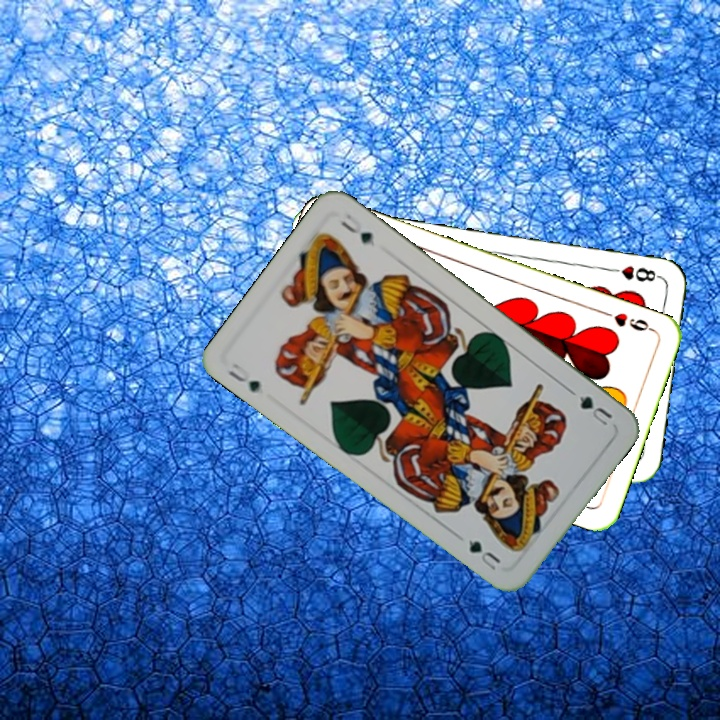GU: (575, 391, 615, 429), (223, 358, 263, 396)
H8: (604, 262, 663, 284)
H9: (600, 307, 657, 335)
